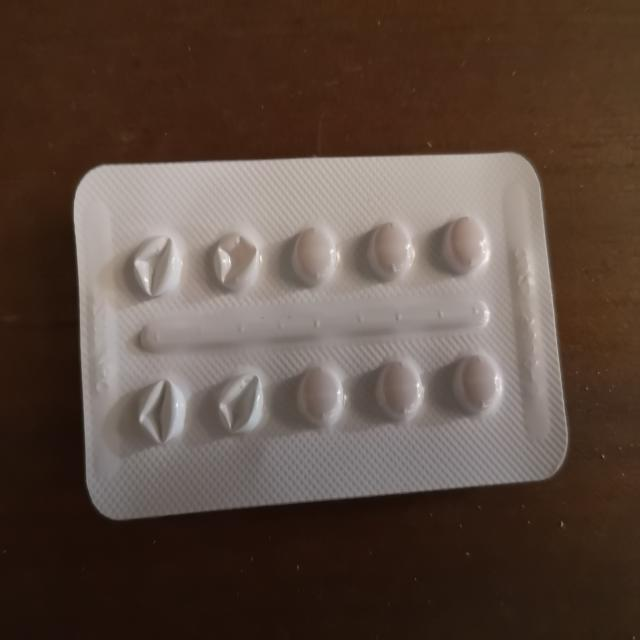Empty: (206, 357, 268, 442), (127, 368, 188, 450), (200, 220, 260, 297), (126, 227, 182, 300)
Pill: (368, 344, 428, 429), (293, 356, 349, 436), (359, 213, 418, 288), (284, 220, 342, 290), (441, 212, 497, 280)
